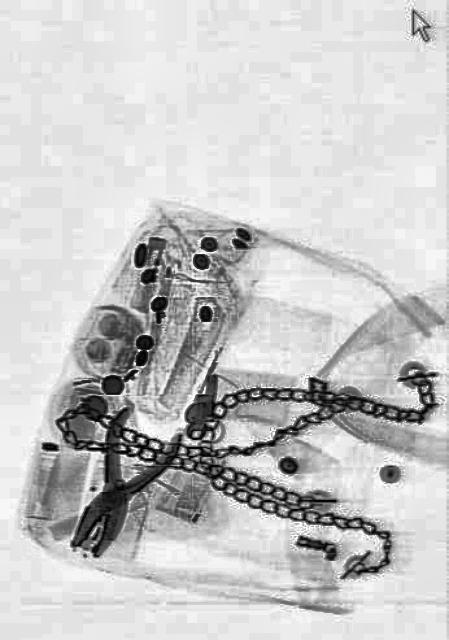Pliers: (53, 388, 183, 580)
